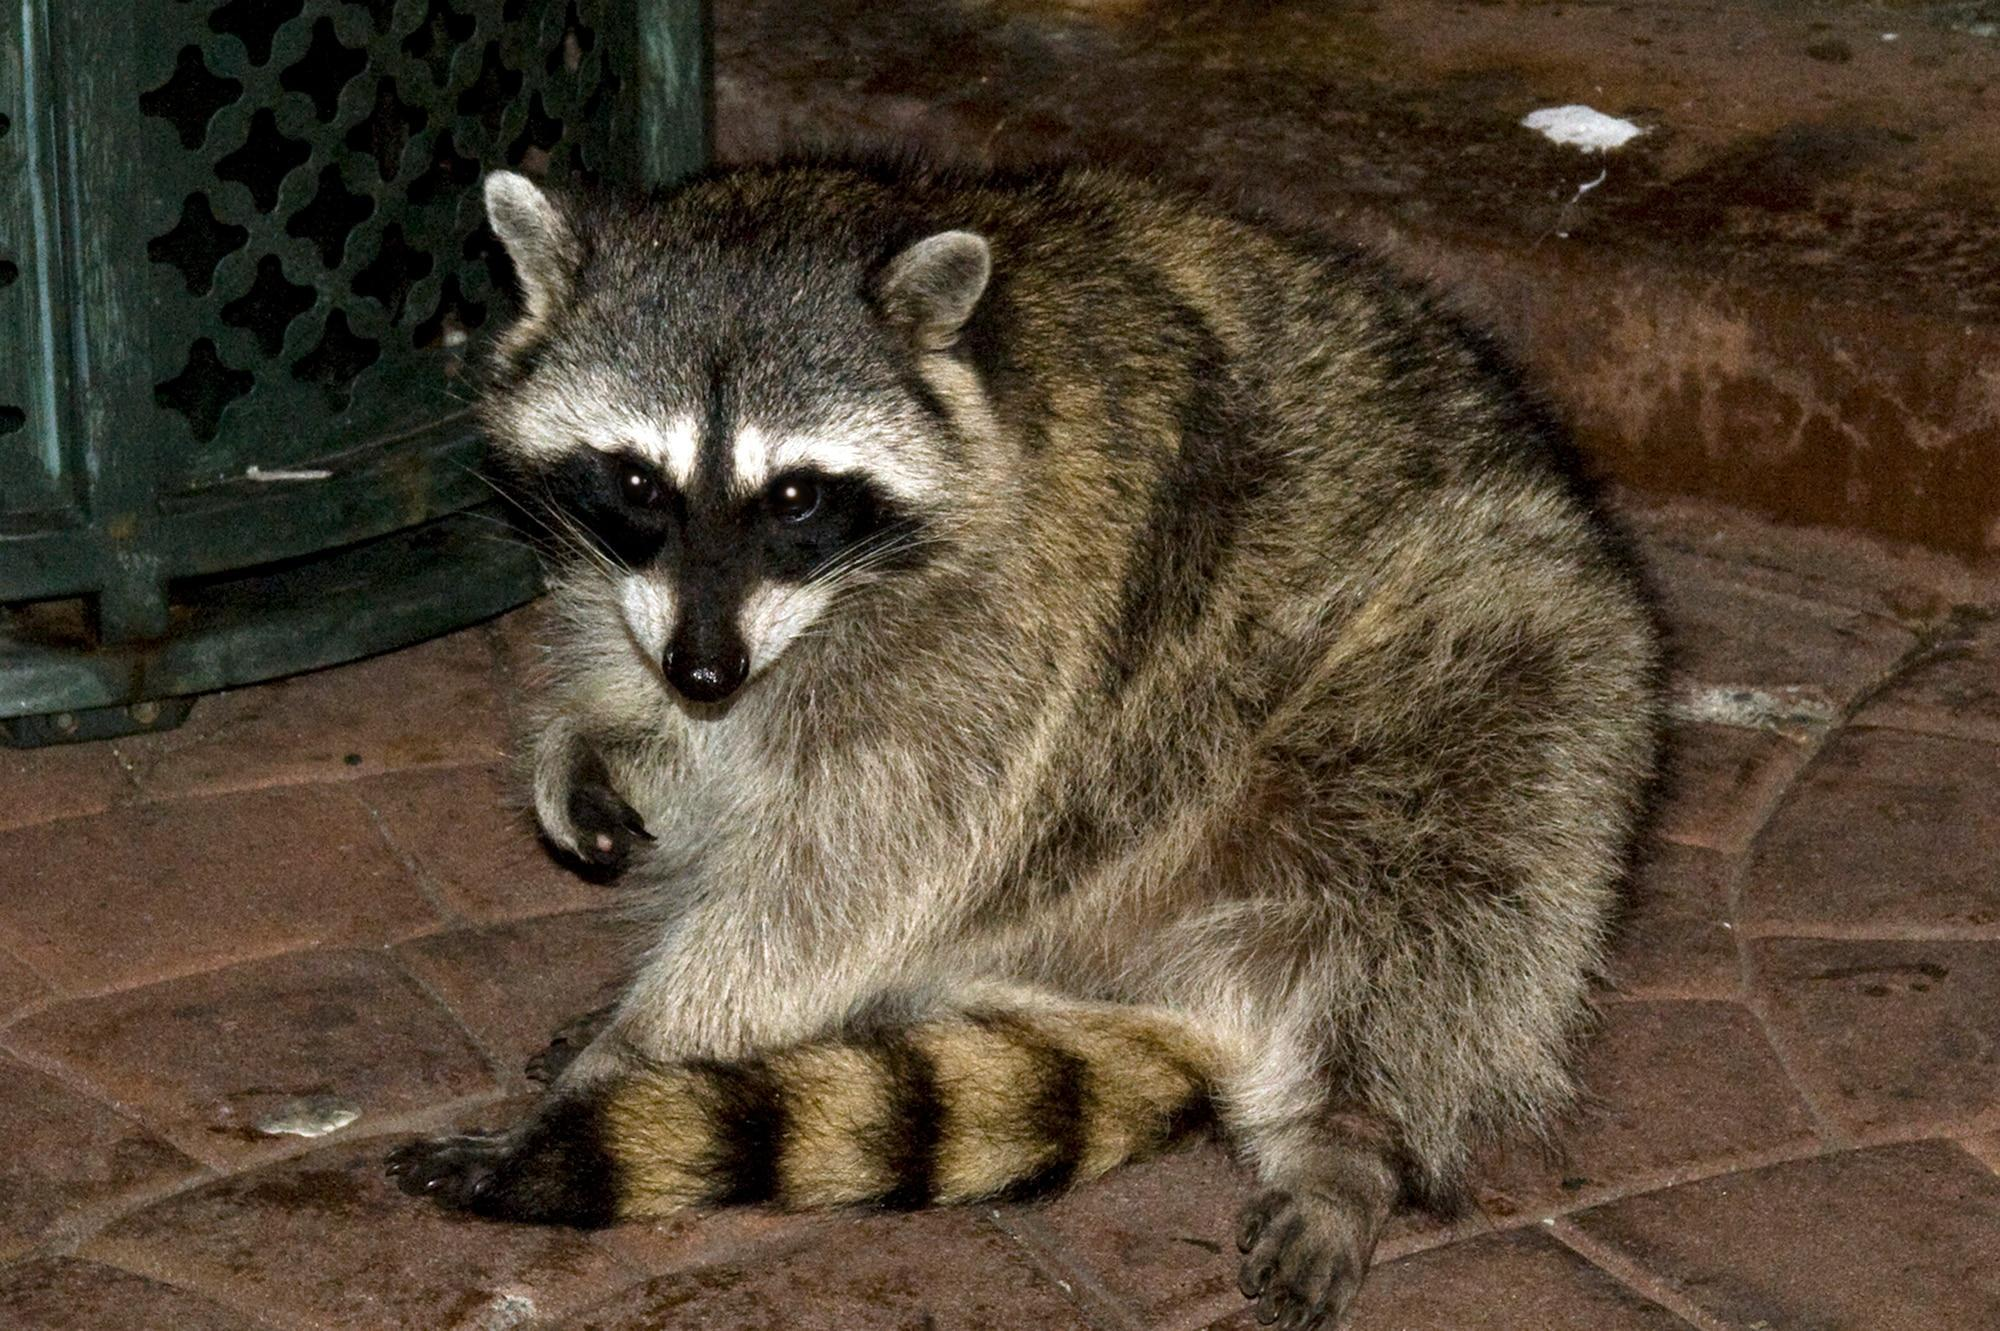raccoon: (385, 154, 1672, 1331)
